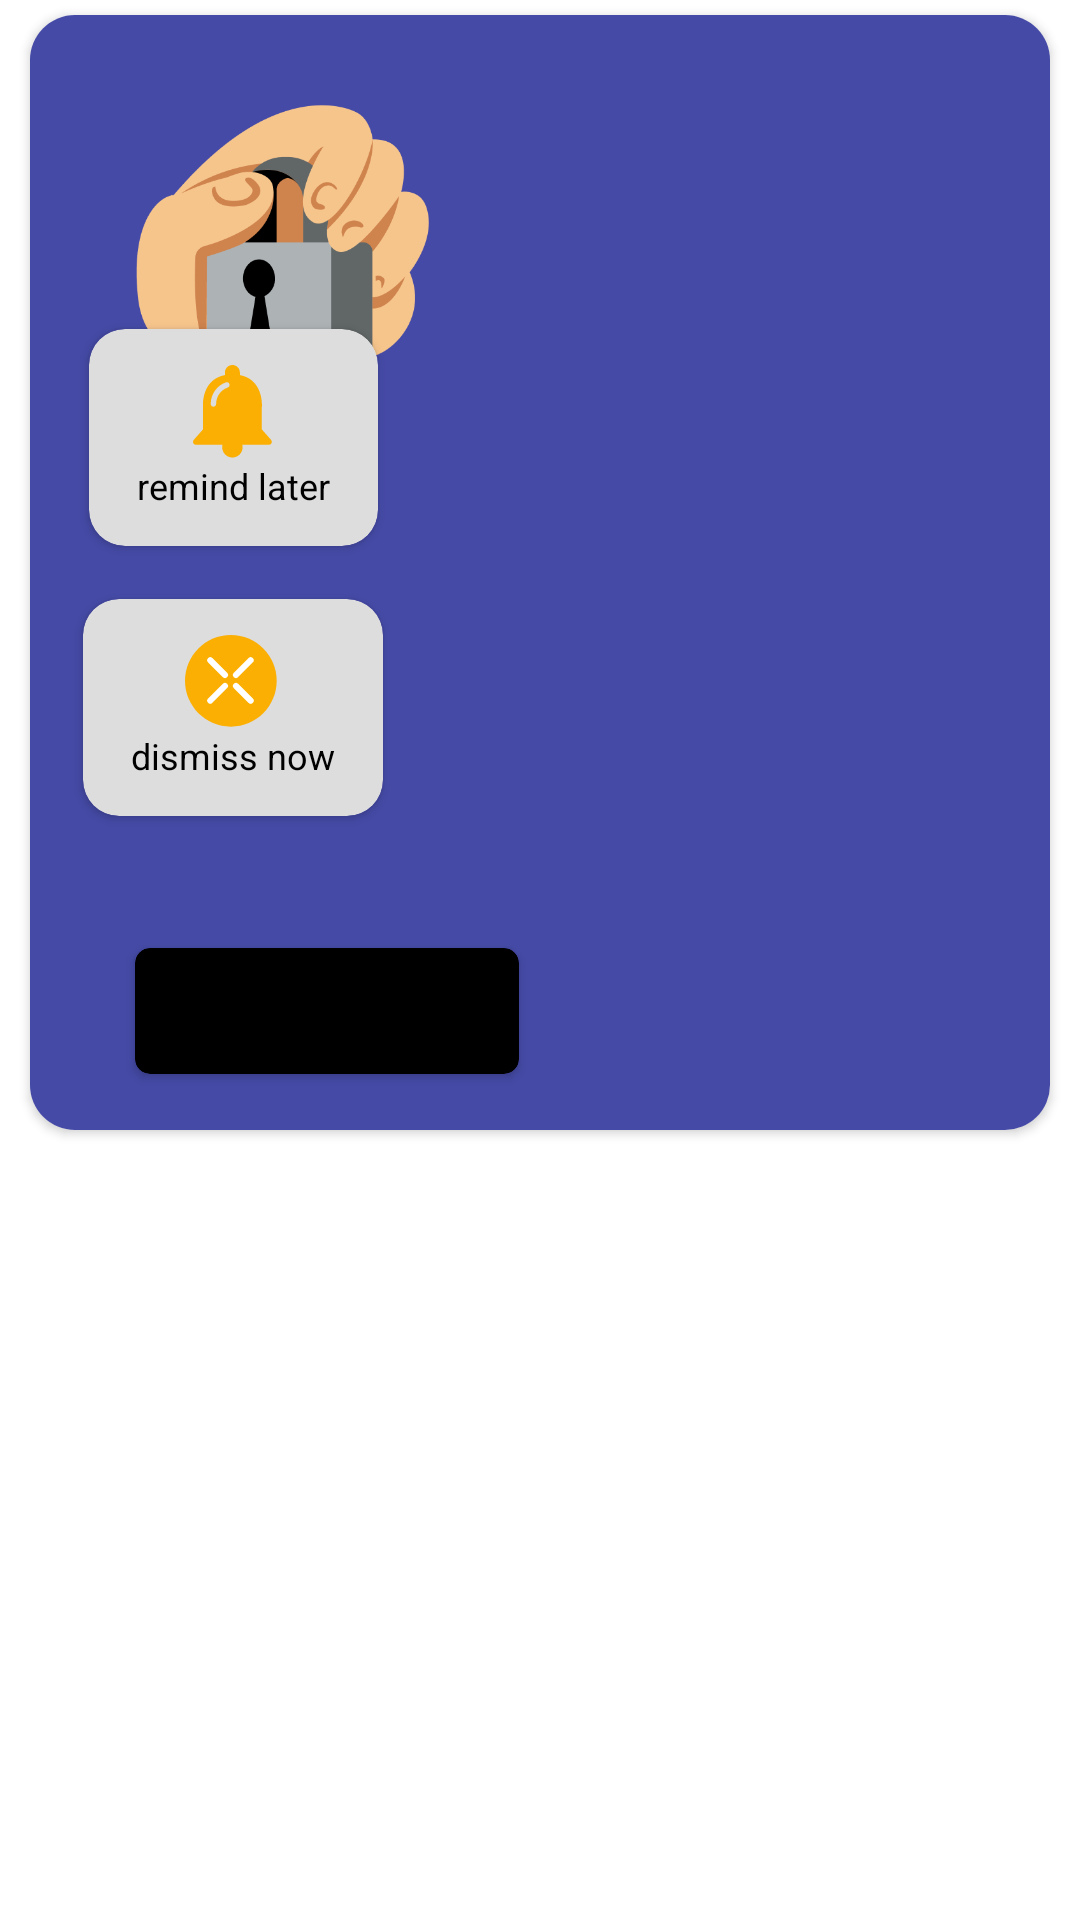

Icons on this 1080w x 1920h Android screen, each with the point to tap as (x,y):
bell: (232,411)
